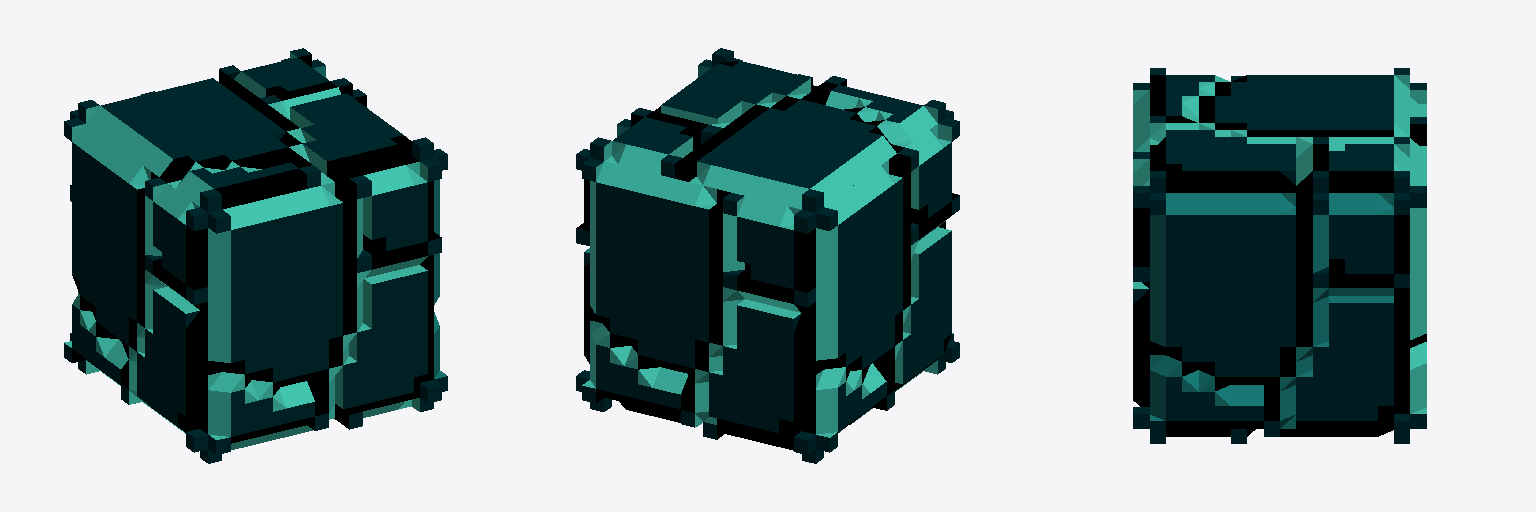
File: undergroundBlock.obj
The picture shows the model from 3 angles: view 1: azimuth 30°, elevation 25°; view 2: azimuth 150°, elevation 25°; view 3: azimuth 270°, elevation 25°; orthographic projection.
Bounding box in the file's own units: 2.25 × 2.25 × 2.25.